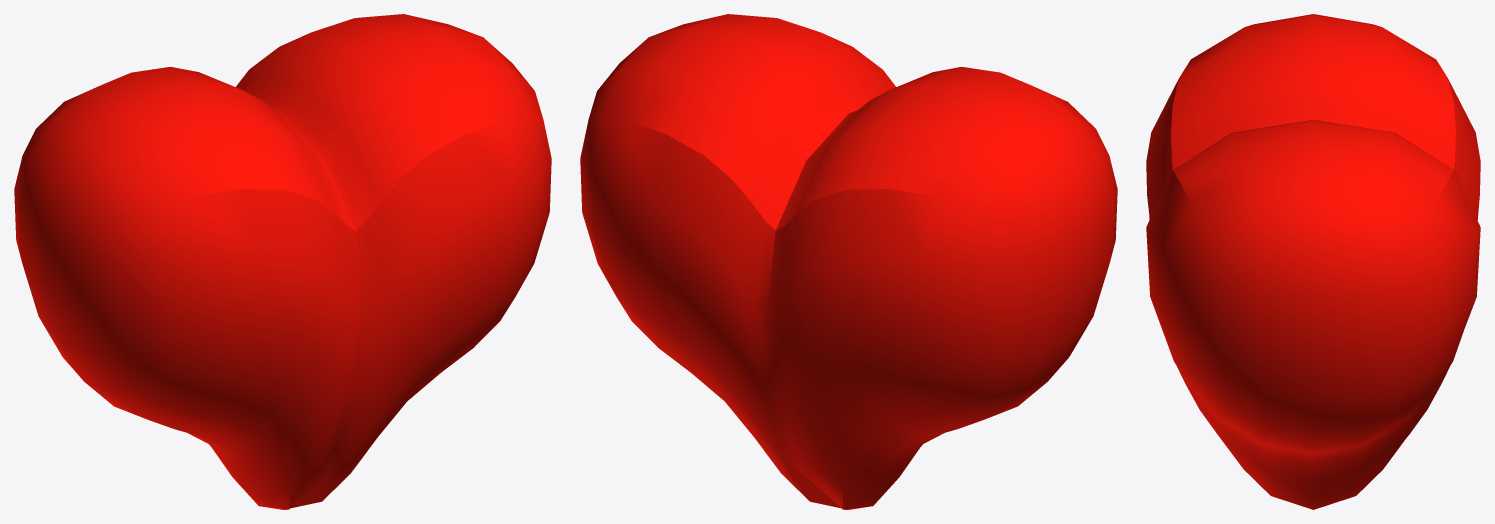
File: heart.fbx
The picture shows the model from 3 angles, left to right: view 1: azimuth 30°, elevation 25°; view 2: azimuth 150°, elevation 25°; view 3: azimuth 270°, elevation 25°; orthographic projection. The views are drawn at different scales.
Visible parts, largest first — view 1: Куб.016; view 2: Куб.016; view 3: Куб.016.
Part boxes in pixels (x1,y1,x2,y2): Куб.016: (14, 14, 551, 509); Куб.016: (580, 14, 1117, 509); Куб.016: (1146, 14, 1480, 509).
Size of the model in its own units: 352 by 311 by 222.
